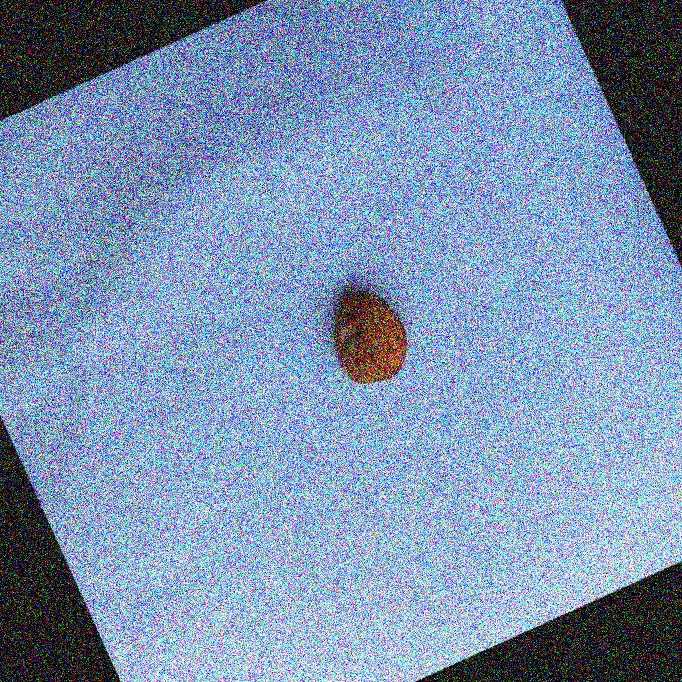grade3: (308, 272, 424, 401)
